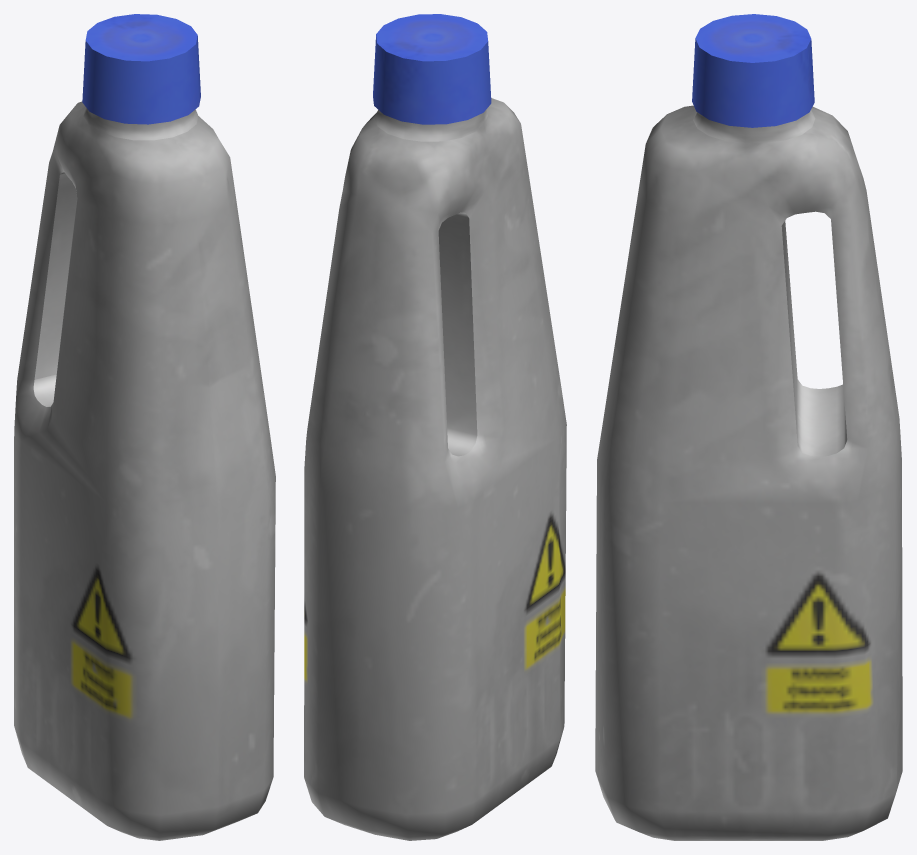
Rendered from SM_Bleach3.fbx.
The picture shows the model from 3 angles, left to right: view 1: azimuth 30°, elevation 25°; view 2: azimuth 150°, elevation 25°; view 3: azimuth 270°, elevation 25°; orthographic projection. The views are drawn at different scales.
Parts seen in each view (by area): view 1: SM_Bleach3_LOD0; view 2: SM_Bleach3_LOD0; view 3: SM_Bleach3_LOD0.
Part boxes in pixels (<box>): SM_Bleach3_LOD0: <box>14,14,275,840</box>; SM_Bleach3_LOD0: <box>304,14,566,840</box>; SM_Bleach3_LOD0: <box>595,14,902,840</box>.
Size of the model in its own units: 8.23 by 13.07 by 36.25.
